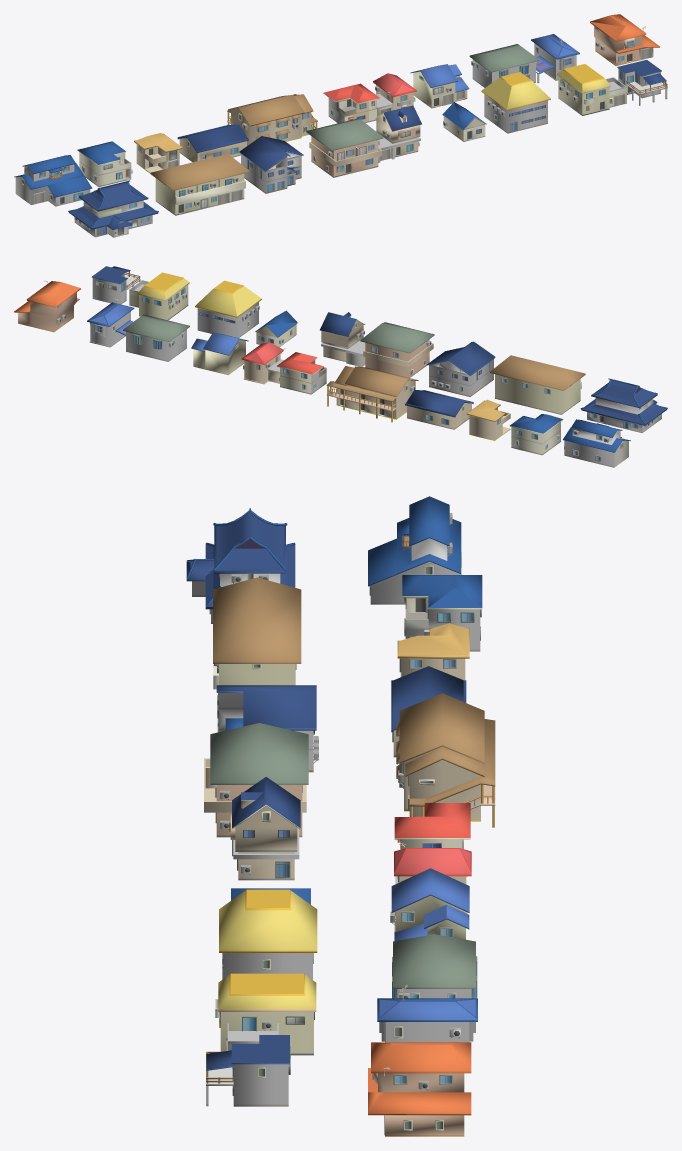
File: houses.glb
The picture shows the model from 3 angles, top to bottom: view 1: azimuth 30°, elevation 25°; view 2: azimuth 150°, elevation 25°; view 3: azimuth 270°, elevation 25°; orthographic projection. The views are drawn at different scales.
Visible parts, largest first — view 1: object_0.004, object_0.002, object_0.010, object_0.001, object_0.013, object_0.006, object_0.012, object_0, object_0.003, object_0.007, object_0.009, object_0.011 (+5 smaller); view 2: object_0.004, object_0.002, object_0.010, object_0.013, object_0.001, object_0.012, object_0.006, object_0.003, object_0, object_0.009, object_0.007, object_0.014 (+5 smaller); view 3: object_0.004, object_0.013, object_0.010, object_0.009, object_0.002, object_0.006, object_0.007, object_0, object_0.001, object_0.012, object_0.008, object_0.003 (+4 smaller).
Boxes of the visible parts, x1,y1,x2,y2 form: object_0.004: (306, 105, 421, 177); object_0.002: (150, 154, 249, 215); object_0.010: (469, 34, 579, 87); object_0.001: (68, 180, 158, 237); object_0.013: (227, 94, 317, 145); object_0.006: (481, 72, 550, 133); object_0.012: (323, 73, 416, 123); object_0: (14, 155, 92, 206); object_0.003: (239, 136, 303, 193); object_0.007: (556, 64, 626, 115); object_0.009: (590, 14, 659, 65); object_0.011: (410, 64, 469, 108); object_0.004: (319, 312, 434, 377); object_0.002: (490, 355, 585, 414); object_0.010: (87, 298, 189, 361); object_0.013: (326, 366, 418, 422); object_0.001: (580, 378, 667, 432); object_0.012: (241, 342, 326, 394); object_0.006: (195, 280, 261, 337); object_0.003: (426, 341, 495, 396); object_0: (563, 419, 630, 467); object_0.009: (14, 281, 80, 332); object_0.007: (129, 272, 189, 320); object_0.014: (405, 390, 473, 429); object_0.004: (204, 723, 308, 880); object_0.013: (396, 693, 495, 827); object_0.010: (377, 934, 477, 1042); object_0.009: (368, 1042, 471, 1136); object_0.002: (213, 577, 301, 695); object_0.006: (219, 889, 317, 979); object_0.007: (215, 973, 316, 1055); object_0: (368, 496, 461, 604); object_0.001: (186, 508, 295, 623); object_0.012: (394, 803, 471, 913); object_0.008: (206, 1035, 290, 1106); object_0.003: (216, 685, 318, 772).
Bounding box in the file's own units: 225 × 14.74 × 50.3.
Materials: 1 (1 with a texture image).
